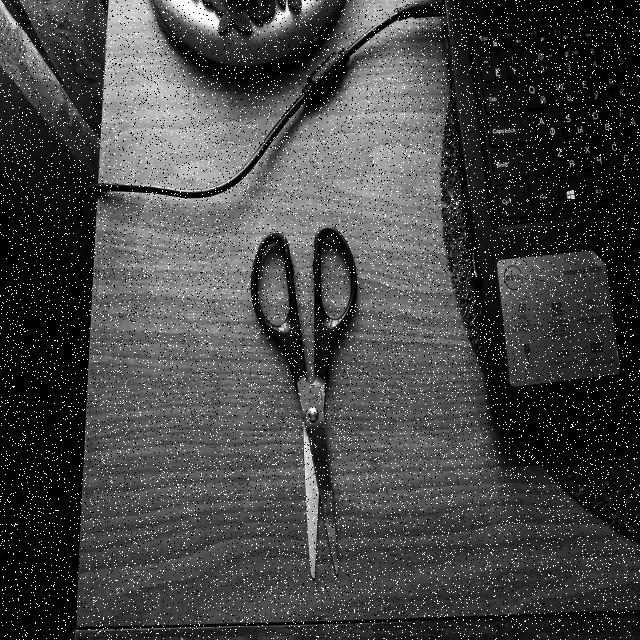scissors: (249, 220, 362, 586)
